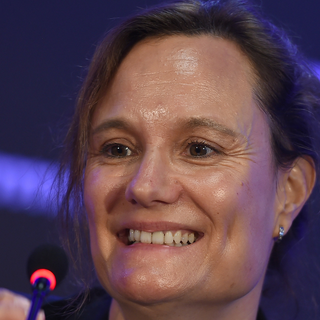eye: (173, 135, 222, 162), (96, 139, 141, 163)
